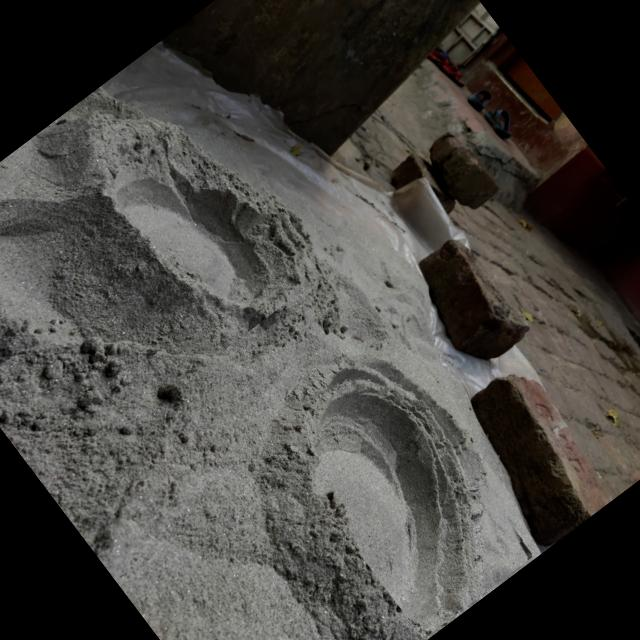C20: (312, 361, 478, 623), (110, 125, 307, 304)
